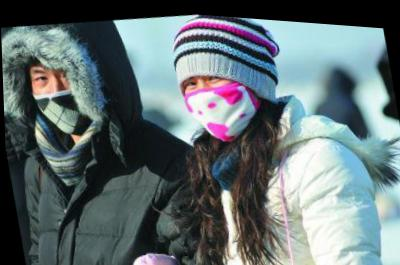OK: (180, 57, 261, 144)
WRONG: (27, 53, 99, 142)
